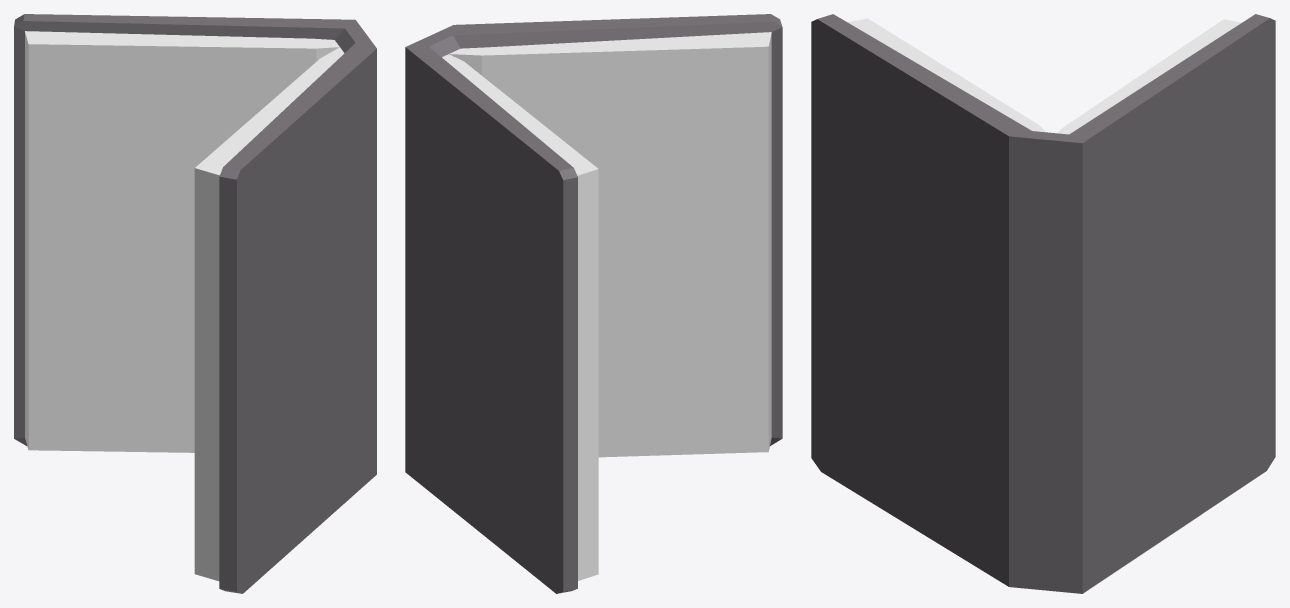
Rendered from bookopen04.obj.
3 views of the same model, side by side, from view 1: azimuth 30°, elevation 25°; view 2: azimuth 150°, elevation 25°; view 3: azimuth 270°, elevation 25° (orthographic). The views are drawn at different scales.
Visible parts, largest first — view 1: Cube.001_Cube.004; view 2: Cube.001_Cube.004; view 3: Cube.001_Cube.004.
Part boxes in pixels (x1,y1,x2,y2): Cube.001_Cube.004: [14, 14, 376, 593]; Cube.001_Cube.004: [405, 14, 782, 593]; Cube.001_Cube.004: [811, 14, 1275, 593].
Bounding box in the file's own units: 0.106 × 0.1646 × 0.1537.
